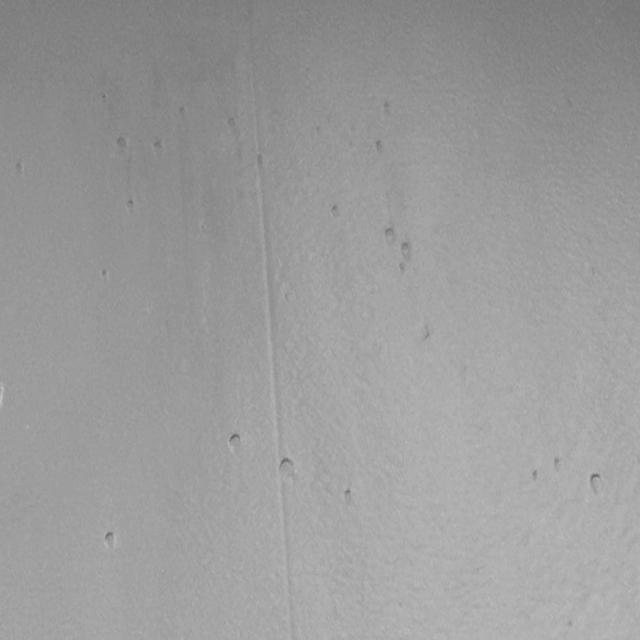pin holes: (586, 472, 610, 501), (276, 454, 297, 483), (398, 239, 418, 268), (225, 430, 246, 456), (380, 224, 400, 251), (340, 485, 360, 508), (380, 97, 399, 121), (114, 134, 133, 157), (419, 321, 438, 344), (101, 530, 118, 553), (372, 136, 388, 158), (152, 136, 168, 157), (0, 381, 12, 408), (551, 456, 566, 477), (329, 201, 345, 220), (124, 197, 139, 216), (13, 160, 28, 179), (226, 114, 241, 132), (531, 467, 545, 485), (175, 105, 188, 124), (396, 260, 408, 280), (98, 267, 112, 283), (256, 151, 266, 168)
